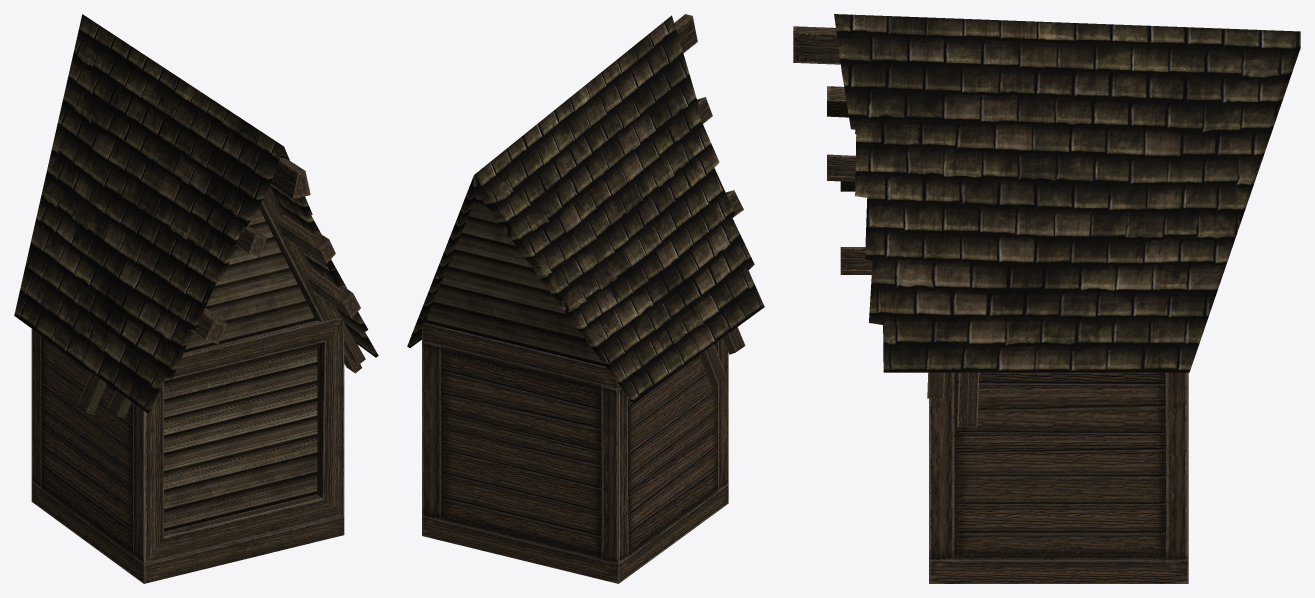
Rendered from Window_c02.fbx.
3 renders of one model, left to right at view 1: azimuth 30°, elevation 25°; view 2: azimuth 150°, elevation 25°; view 3: azimuth 270°, elevation 25°, orthographic. The views are drawn at different scales.
Parts seen in each view (by area): view 1: Window_c02; view 2: Window_c02; view 3: Window_c02.
Boxes of the visible parts, box(x1,y1,x2,y2) form: Window_c02: box(14, 14, 378, 583); Window_c02: box(407, 14, 764, 583); Window_c02: box(793, 14, 1300, 583).
Bounding box in the file's own units: 3.82 × 6.25 × 5.61.
